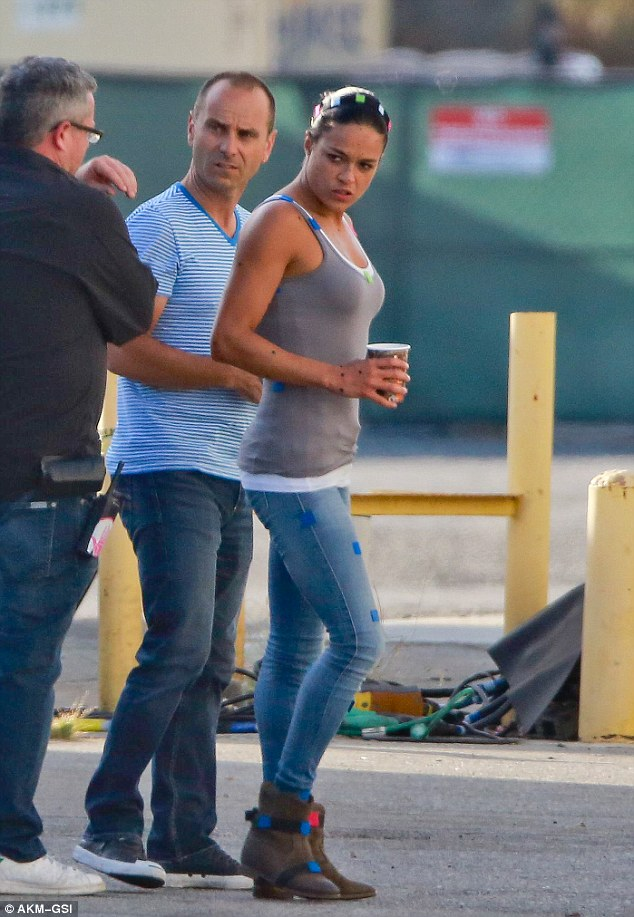Person: (72, 70, 278, 900), (208, 84, 414, 901)
